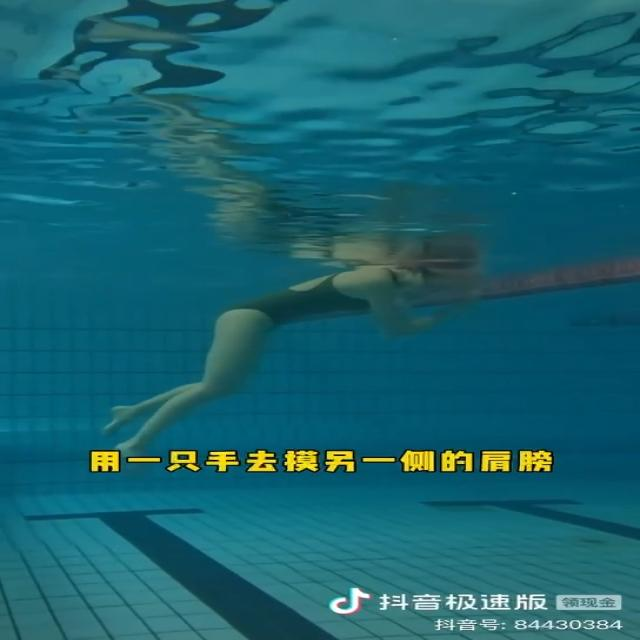Drowning: (106, 256, 486, 454)
